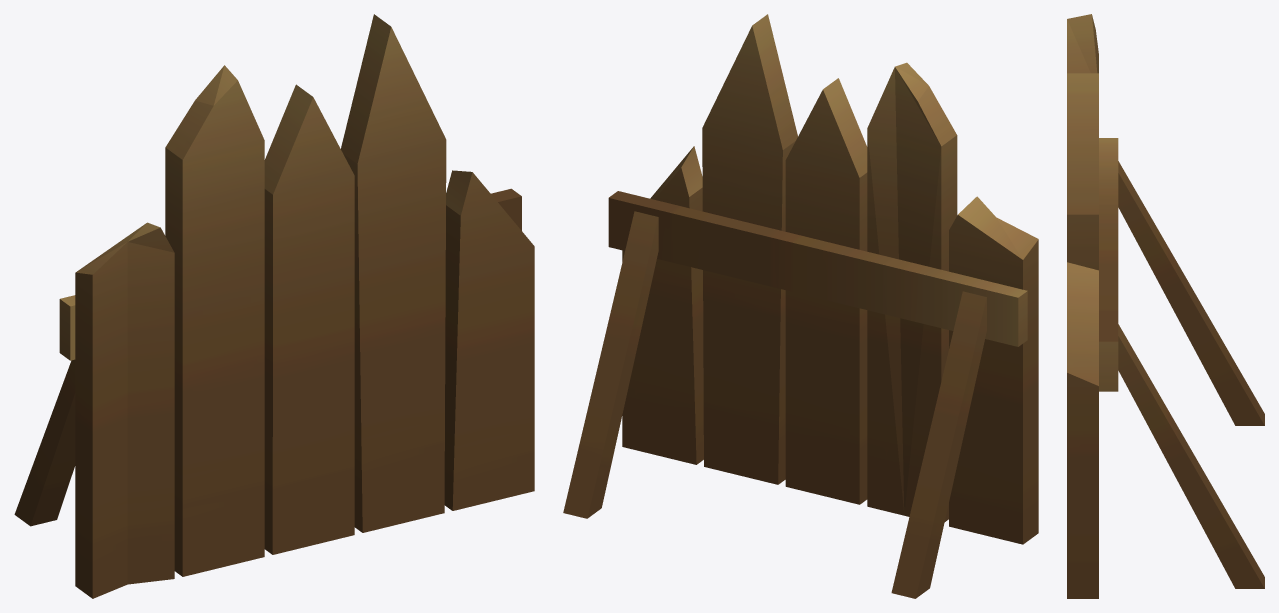
File: pack04_fences_10.fbx
3 renders of one model, left to right at view 1: azimuth 30°, elevation 25°; view 2: azimuth 150°, elevation 25°; view 3: azimuth 270°, elevation 25°, orthographic. The views are drawn at different scales.
Parts seen in each view (by area): view 1: Medium_Fence_03; view 2: Medium_Fence_03; view 3: Medium_Fence_03.
Part boxes in pixels (box(x1,y1,x2,y2)): Medium_Fence_03: box(14, 14, 534, 598); Medium_Fence_03: box(563, 14, 1038, 598); Medium_Fence_03: box(1067, 14, 1264, 598).
Size of the model in its own units: 36.41 by 38.55 by 14.95.
1 material, 1 textured.
